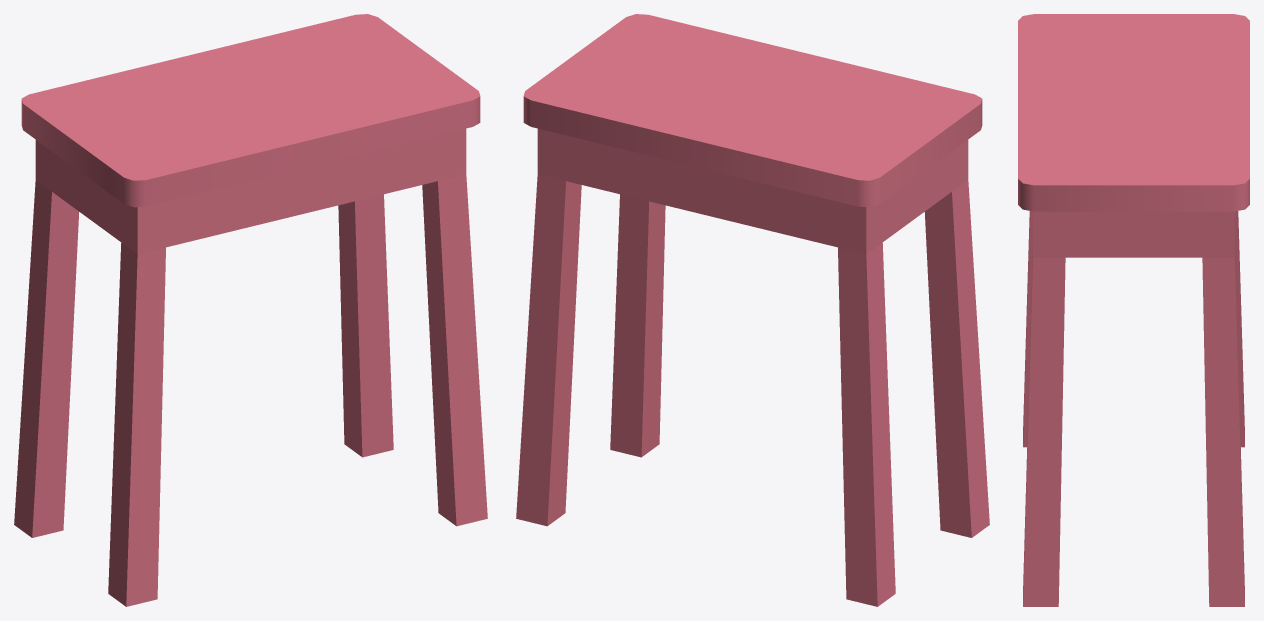
The model's file is SmallHallWayTable.fbx.
3 renders of one model, left to right at view 1: azimuth 30°, elevation 25°; view 2: azimuth 150°, elevation 25°; view 3: azimuth 270°, elevation 25°, orthographic.
Visible parts, largest first — view 1: SmallHallwayTable; view 2: SmallHallwayTable; view 3: SmallHallwayTable.
Part boxes in pixels (bbox=[...]): SmallHallwayTable: bbox=[14, 14, 487, 606]; SmallHallwayTable: bbox=[516, 14, 989, 606]; SmallHallwayTable: bbox=[1018, 14, 1249, 606].
Bounding box in the file's own units: 71.33 × 80 × 40.
